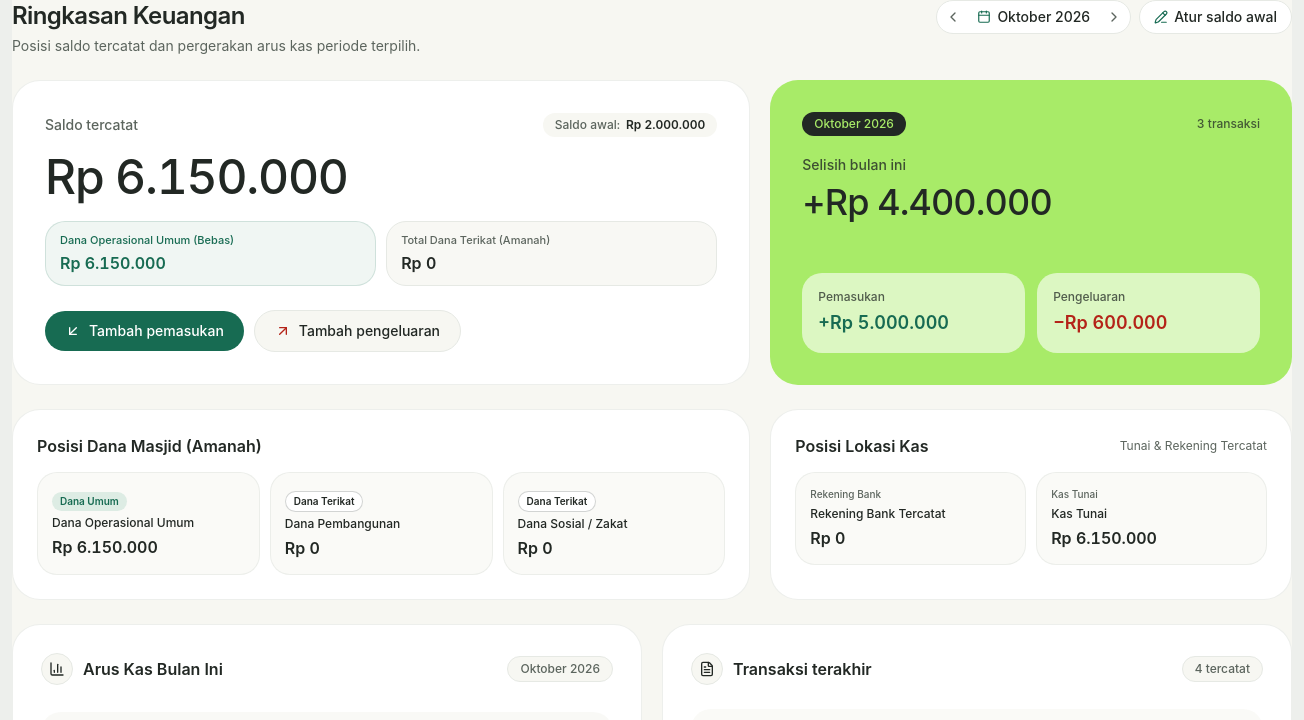
Test case: Nota Milestone 3 — Dashboard with Real Data › renders real balance, period summaries, cash-flow visual, and recent transactions while keeping opening balance separate from period income
The image size is (1304, 720).
Expected: the text with test id "current-balance-value" reads "Rp 6.150.000", [45,147,348,206]
Expected: the text with test id "period-income-value" reads "+Rp 5.000.000", [818,312,949,332]
What coordinates should you click on to do the following:
click the button named "Bulan sebelumnya"
I would click on:
 (953, 17)
Its box is [939,3,967,31].
(page scrolled)
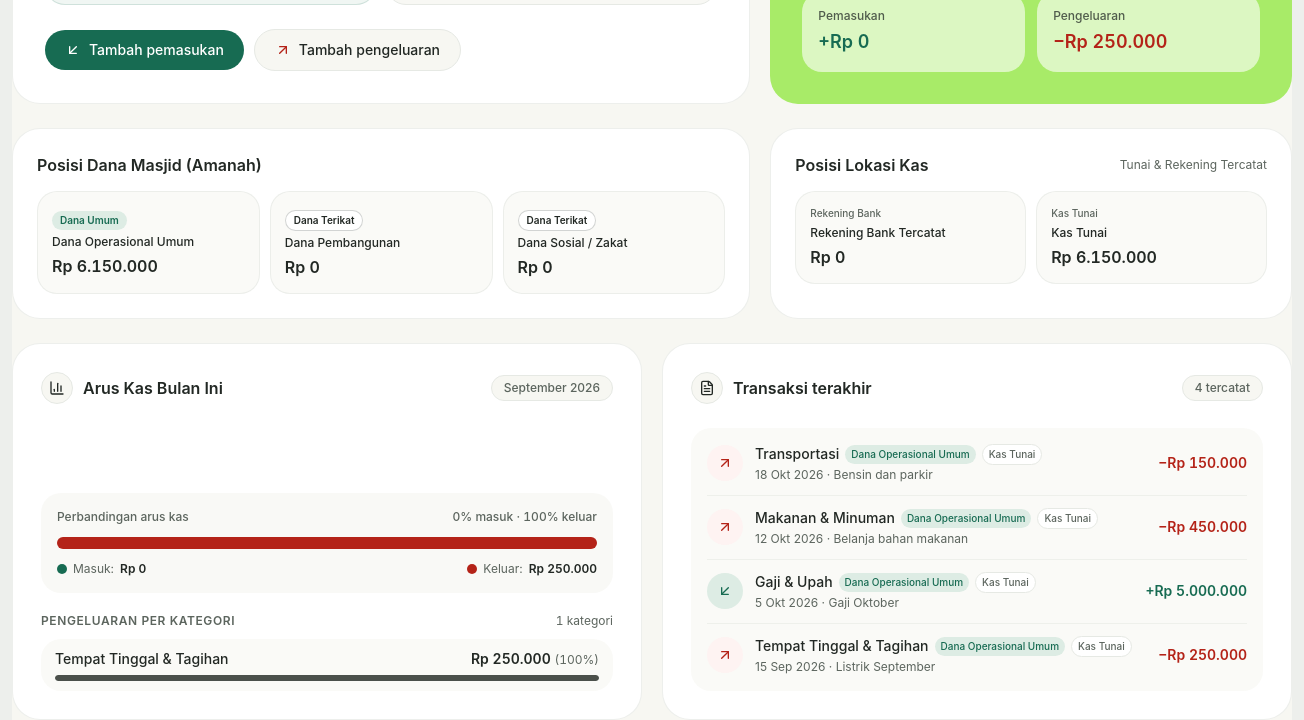
Expected: the text with test id "period-expense-value" reads "−Rp 250.000", [1053,30,1167,52]
Expected: the text with test id "period-income-value" reads "+Rp 0", [818,30,869,52]
Expected: the text "Tempat Tinggal & Tagihan" below "Pengeluaran per kategori" is shown, [55,650,228,666]
